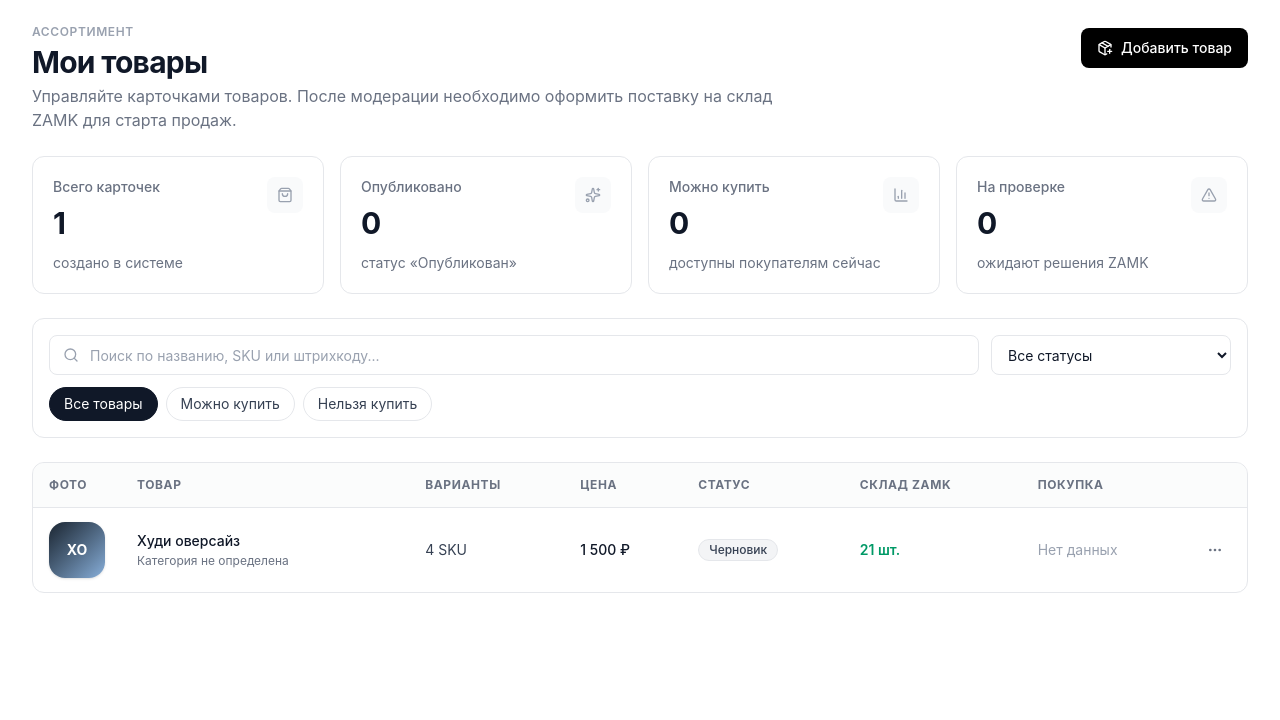
Test case: SellerProducts - Quick View Truth + Safe Existing Actions › A: renders Color × Size variants canonically in the drawer
# Click row to open drawer
What coordinates should you click on to do the following:
click the text "Худи оверсайз"
I would click on:
 (189, 540)
Its box is left=137, top=532, right=240, bottom=549.
(page scrolled)
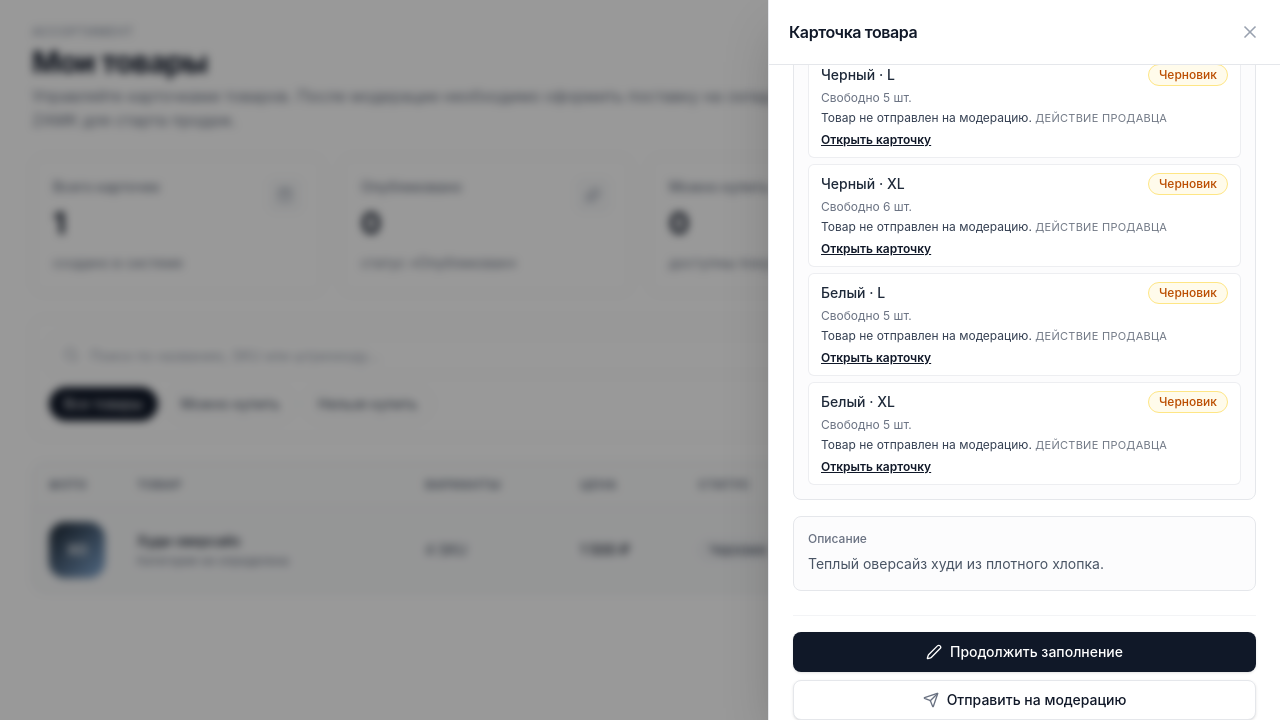
Now the element with test id "seller-product-drawer" is shown
Now the text "Черный · L" is shown, box left=821, top=65, right=895, bottom=85
Now the text "Черный · XL" is shown, box left=821, top=174, right=905, bottom=194
